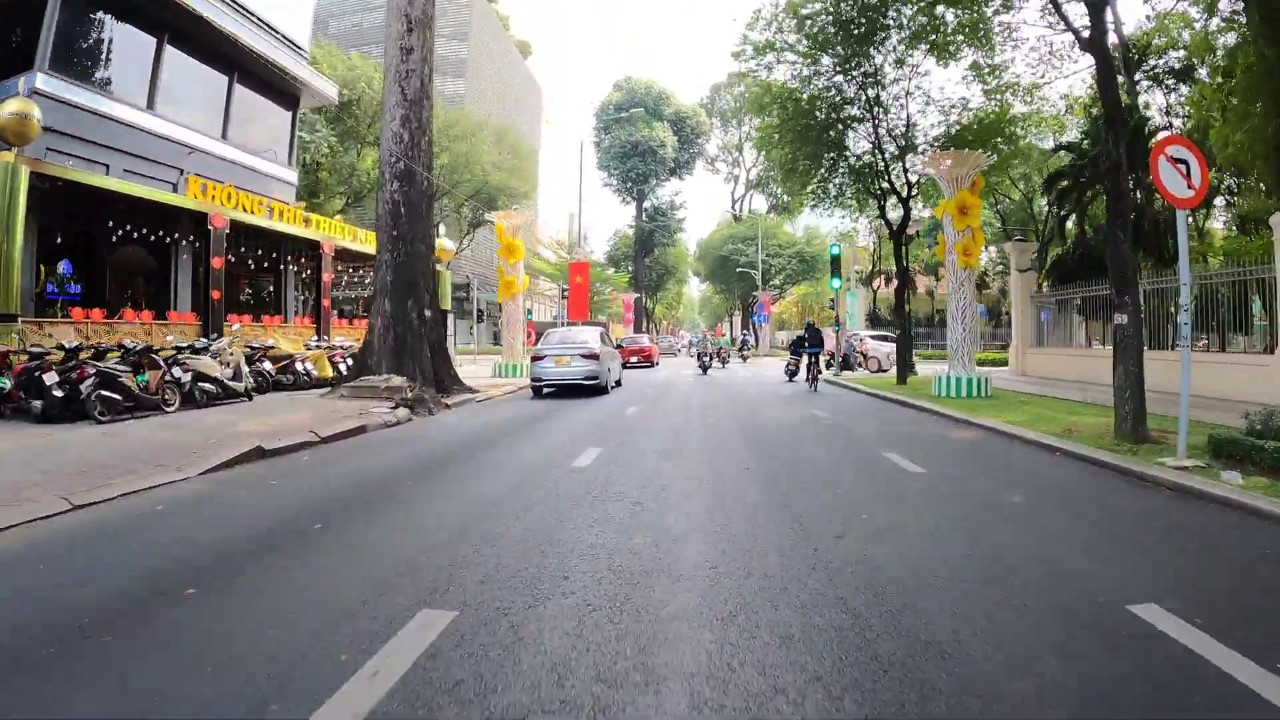cam_re_trai: (1149, 135, 1211, 210)
